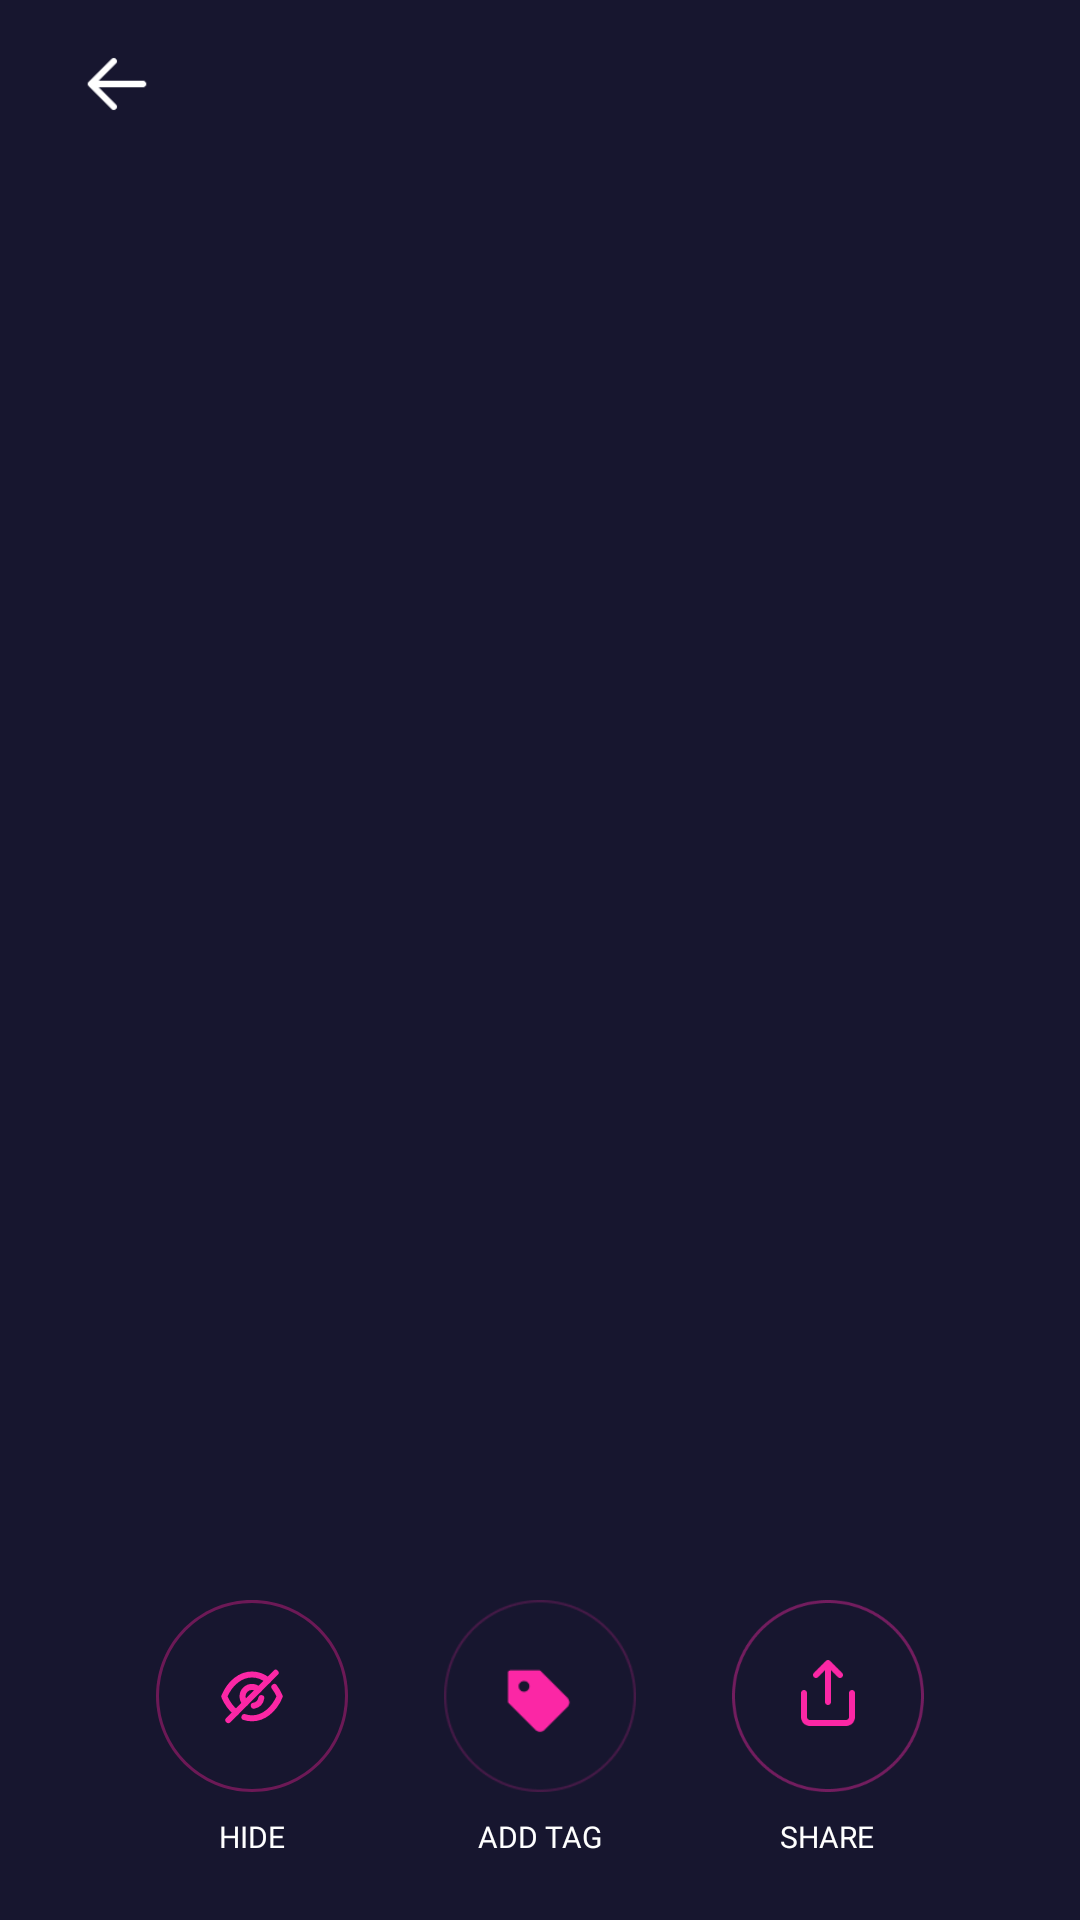

Icons on this 1080px×1920px Android screen, each with its box as (x1, y1, x2, y2):
back: (87, 58, 147, 110)
hidden eye: (221, 1669, 283, 1724)
tag with circle: (444, 1600, 636, 1792)
